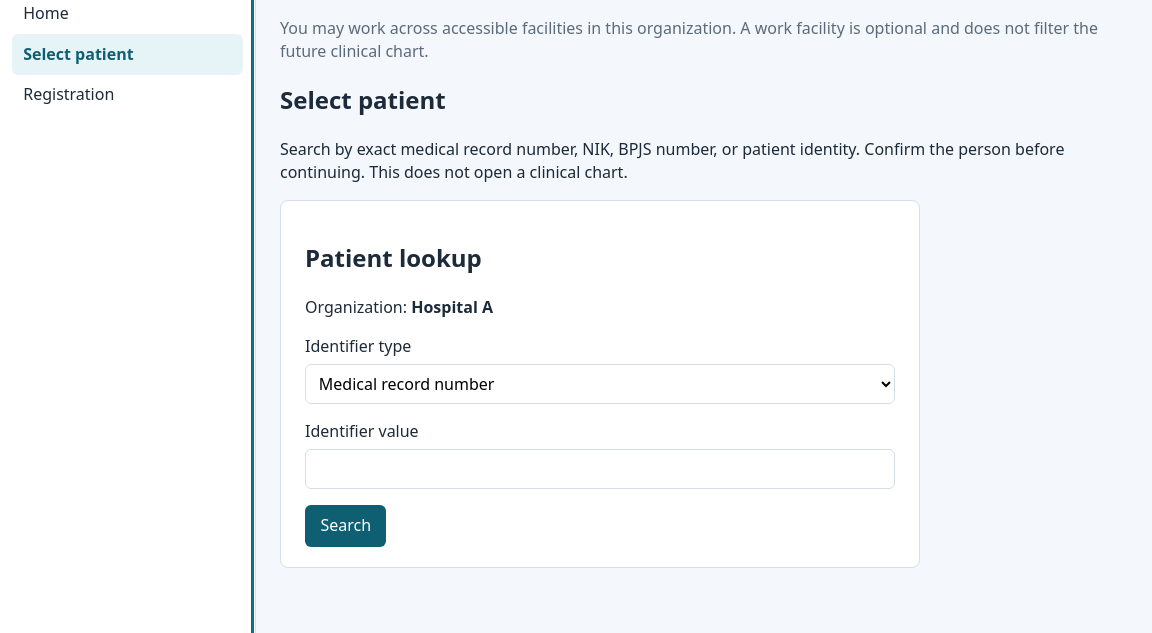
Test: patient lookup and selection › does not refetch lookup on window focus
This screenshot has width=1152, height=633.
Type "MRN-TEST-0001" into the field labelled "Identifier value". click: (600, 469)
box: [305, 449, 895, 489]
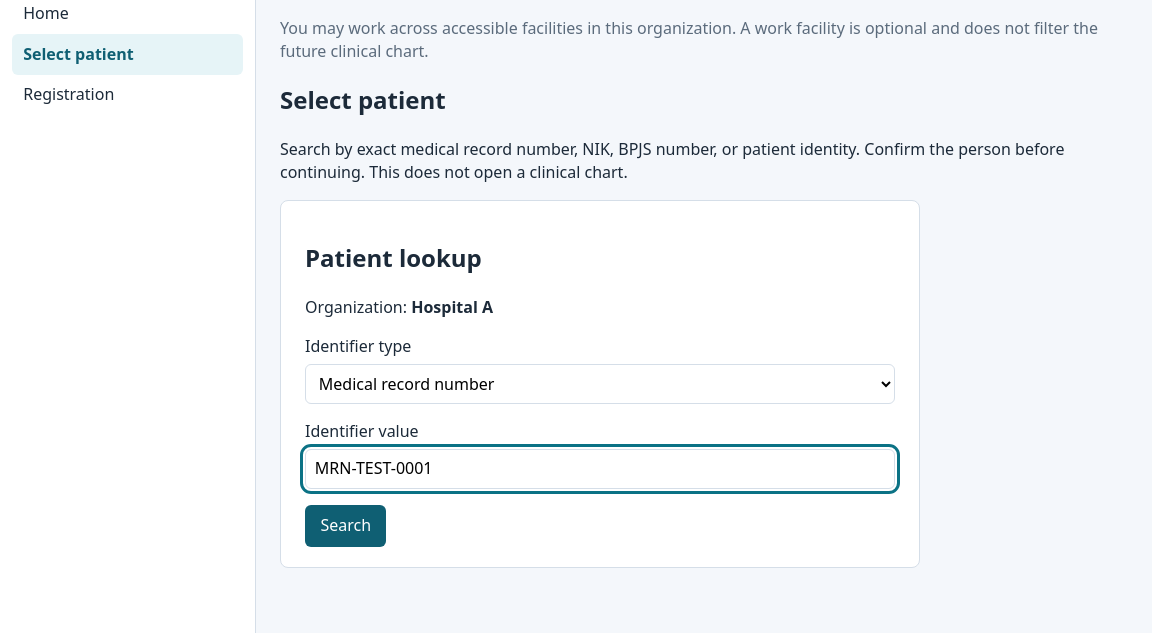
Click the button "Search". click: (346, 526)
box: [305, 505, 386, 548]
(page scrolled)
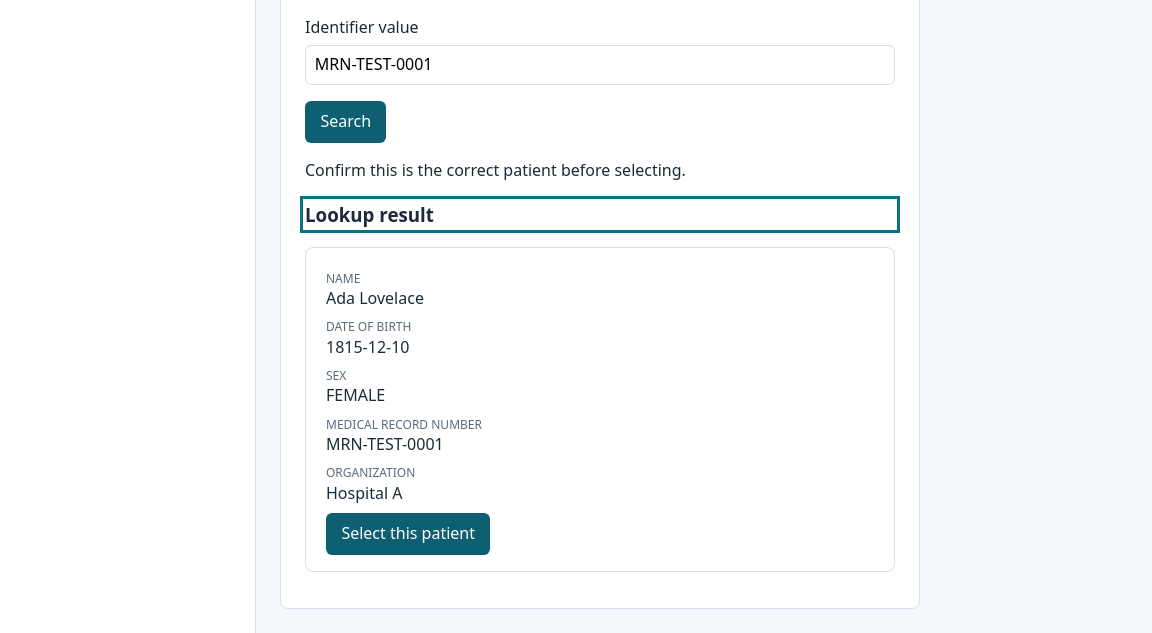
Expected: the element with test id "patient-confirmation-card" is shown, [305, 247, 895, 572]
